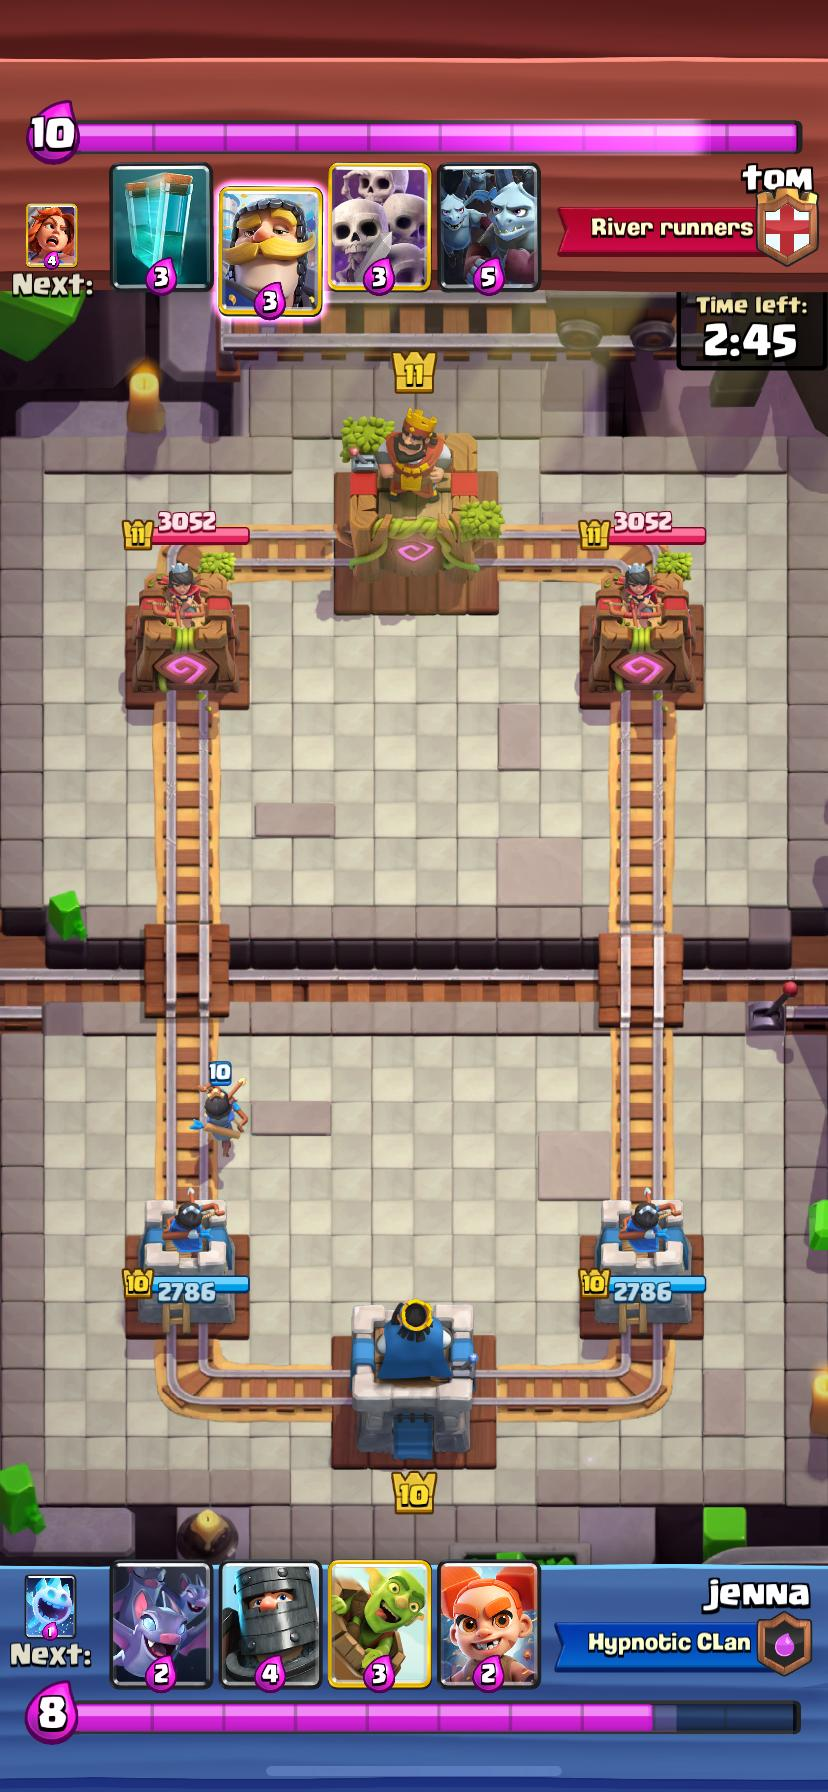EKingTower: (337, 408, 497, 581)
EnemyPrincessTower: (580, 546, 703, 707), (134, 547, 238, 696)
OPrincess: (200, 1059, 246, 1157)
OwnKingTower: (350, 1303, 476, 1459)
OwnPrincessTower: (580, 1200, 704, 1330), (124, 1200, 248, 1330)
